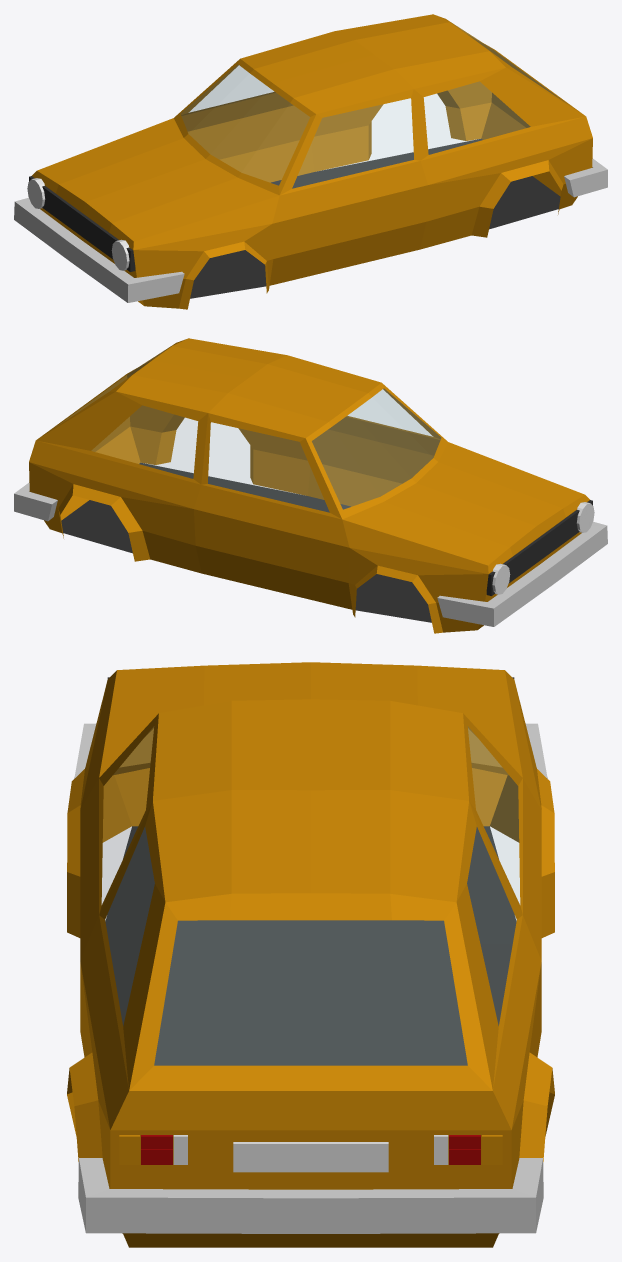
3 views of the same model, one above another, from view 1: azimuth 30°, elevation 25°; view 2: azimuth 150°, elevation 25°; view 3: azimuth 270°, elevation 25° (orthographic). The views are drawn at different scales.
Visible parts, largest first — view 1: vw; view 2: vw; view 3: vw.
Boxes of the visible parts, box(x1,y1,x2,y2) form: vw: box(14, 14, 607, 309); vw: box(14, 338, 607, 633); vw: box(67, 662, 554, 1247).
Bounding box in the file's own units: 6.32 × 2.77 × 1.93.
